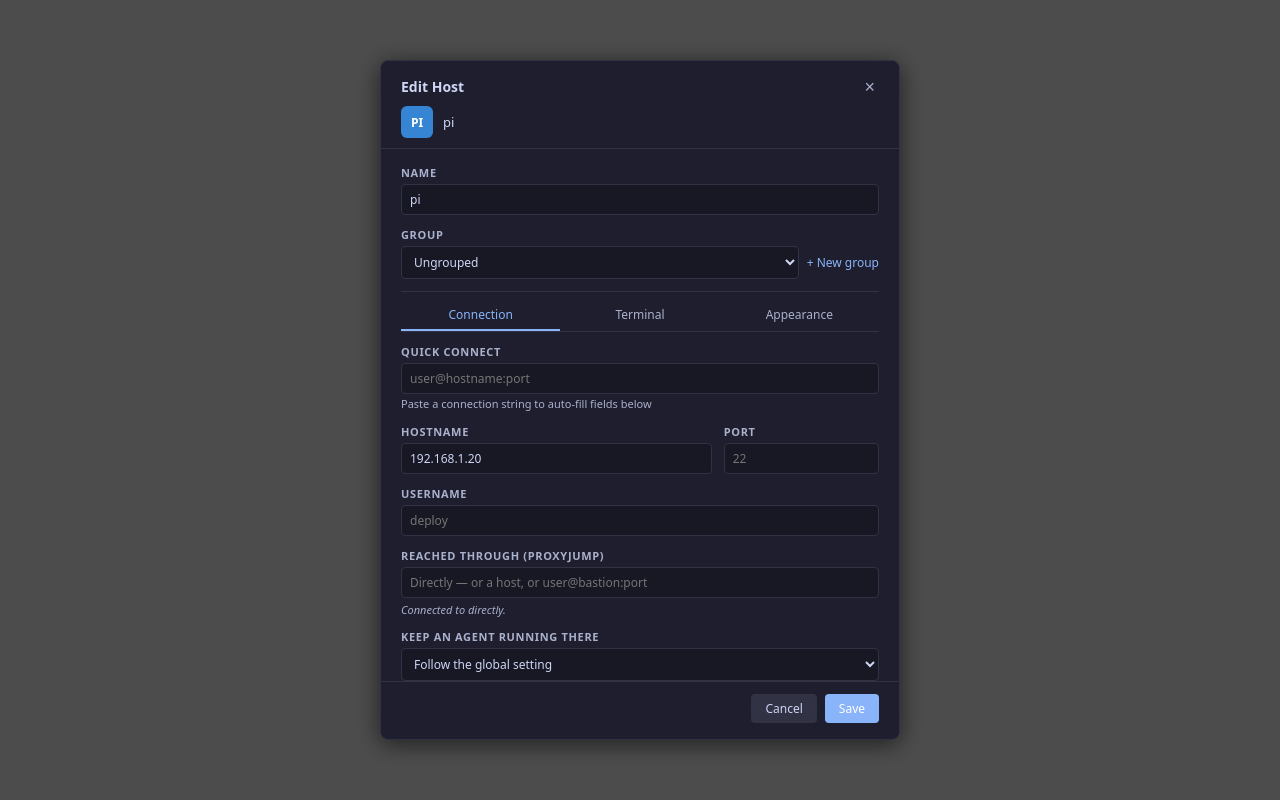
Test: HostModal Default Shell: the host's default launch profile (#802) › shows the profile the user made the host's default
Click the tab with id "tab-terminal": (640, 316) [560,300,720,331]
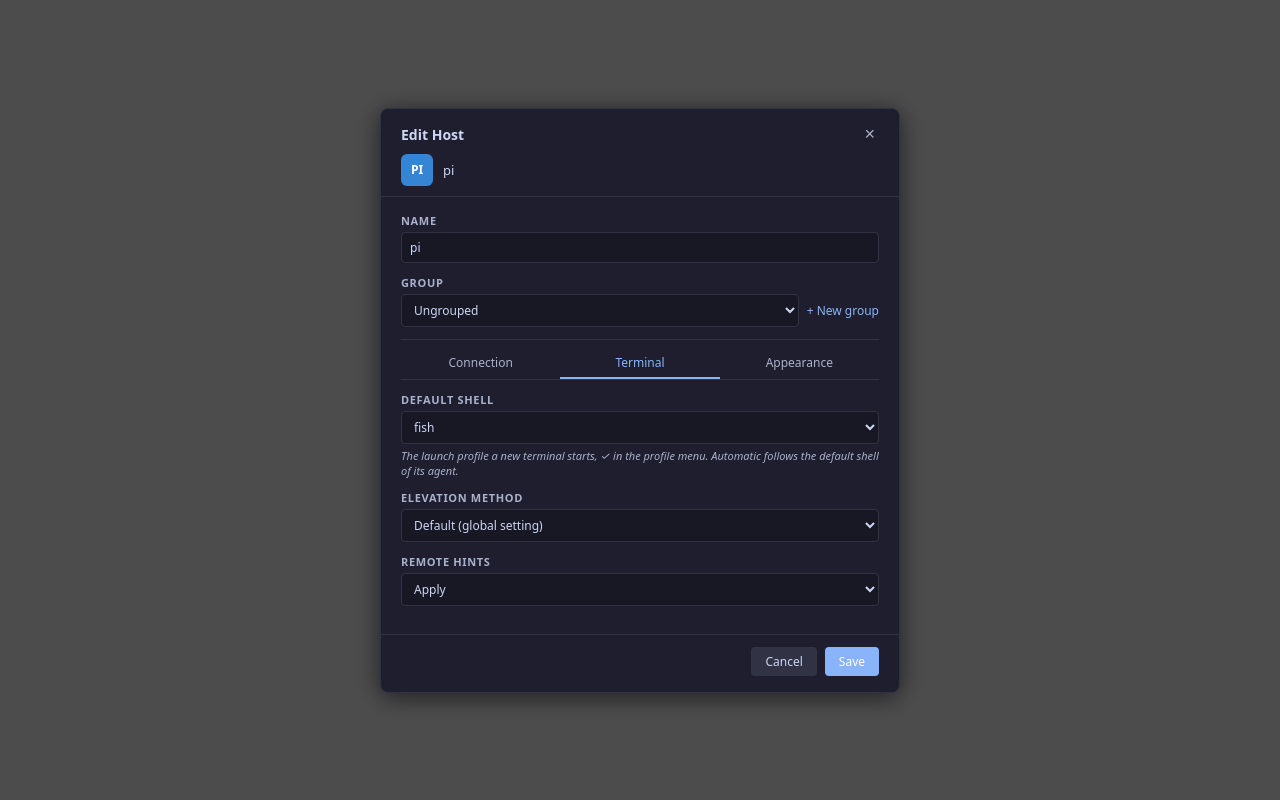
Check: the dropdown with id "host-default-shell" shows "fish", box [401,410,879,444]
